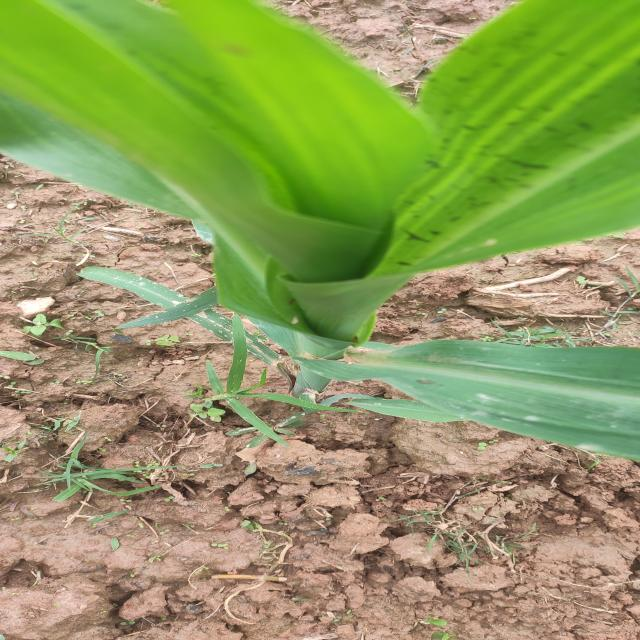maize: (66, 18, 640, 420)
weed: (52, 429, 167, 510), (396, 506, 524, 564)
